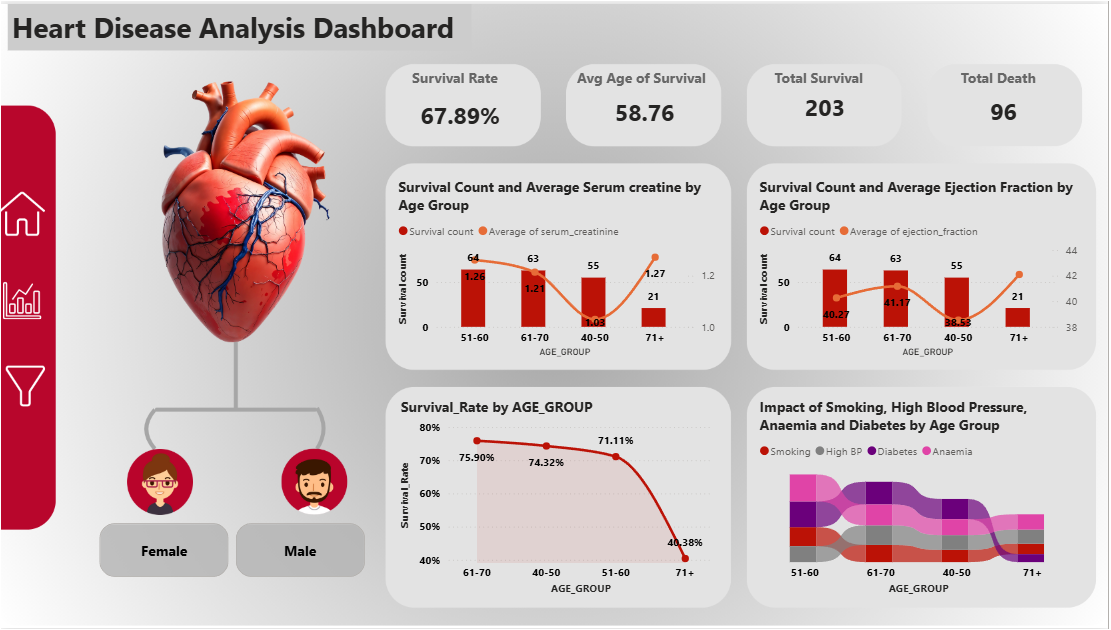

This screenshot's page, from the dashboard's own definition file:
{"tool":"powerbi","page":{"name":"Page 1","canvas":[1280,720],"ordinal":0},"visuals":[{"type":"textbox","box":[10,0,534.9,53.5],"z":0},{"type":"cardVisual","fields":{"Data":["heart_Disease_clinical_records_.Survival_Rate"]},"box":[442.9,85.9,179.1,79.8],"z":1000},{"type":"cardVisual","fields":{"Data":["heart_Disease_clinical_records_.Average_Age_Survival"]},"box":[662.6,85.9,166.9,71.2],"z":2000},{"type":"cardVisual","fields":{"Data":["heart_Disease_clinical_records_.Total_Death"]},"box":[1088.3,88.3,143.6,66.3],"z":3000},{"type":"cardVisual","fields":{"Data":["heart_Disease_clinical_records_.Total_Surviour"]},"box":[872.4,78.5,162,78.5],"z":4000},{"type":"textbox","box":[472.4,68.7,120.2,34.4],"z":5000},{"type":"textbox","box":[662.6,68.7,171.8,33.1],"z":6000},{"type":"textbox","box":[890.8,68.7,123.9,34.4],"z":7000},{"type":"textbox","box":[1105.5,68.7,109.2,35.6],"z":8000},{"type":"lineClusteredColumnComboChart","title":"Survival Count and Average Serum creatine by Age Group","fields":{"Y":["CountNonNull(heart_Disease_clinical_records_.DEATH_EVENT)"],"Y2":["Avg(heart_Disease_clinical_records_.serum_creatinine)"],"Category":["heart_Disease_clinical_records_.AGE_GROUP"]},"box":[455.9,199.1,378,213.5],"z":9000},{"type":"lineClusteredColumnComboChart","title":"Survival Count and Average Ejection Fraction by Age Group","fields":{"Y":["CountNonNull(heart_Disease_clinical_records_.DEATH_EVENT)"],"Y2":["Avg(heart_Disease_clinical_records_.ejection_fraction)"],"Category":["heart_Disease_clinical_records_.AGE_GROUP"]},"box":[872.4,198.8,377.9,213.5],"z":10000},{"type":"areaChart","fields":{"Category":["heart_Disease_clinical_records_.AGE_GROUP"],"Y":["heart_Disease_clinical_records_.Survival_Rate"]},"box":[458.9,452.8,370.6,234.4],"z":11000},{"type":"ribbonChart","title":"Impact of Smoking, High Blood Pressure, Anaemia and Diabetes by Age Group","fields":{"Category":["heart_Disease_clinical_records_.AGE_GROUP"],"Y":["Sum(heart_Disease_clinical_records_.smoking)","Sum(heart_Disease_clinical_records_.high_blood_pressure)","Sum(heart_Disease_clinical_records_.diabetes)","Sum(heart_Disease_clinical_records_.anaemia)"]},"box":[872.4,452.8,377.9,234.4],"z":12000},{"type":"advancedSlicerVisual","fields":{"Values":["heart_Disease_clinical_records_.Gender"]},"box":[110.4,593.9,317.8,72.4],"z":13000}]}

Visuals, with their boxes in screenshot pixels (x1, y1, x2, y2), scaled from the page's 1280x720 canvas onto the 1111x630 screenshot:
textbox: [9,0,473,47]
cardVisual - heart_Disease_clinical_records_.Survival_Rate: [384,75,540,145]
cardVisual - heart_Disease_clinical_records_.Average_Age_Survival: [575,75,720,137]
cardVisual - heart_Disease_clinical_records_.Total_Death: [945,77,1069,135]
cardVisual - heart_Disease_clinical_records_.Total_Surviour: [757,69,898,137]
textbox: [410,60,514,90]
textbox: [575,60,724,89]
textbox: [773,60,881,90]
textbox: [960,60,1054,91]
"Survival Count and Average Serum creatine by Age Group" lineClusteredColumnComboChart: [396,174,724,361]
"Survival Count and Average Ejection Fraction by Age Group" lineClusteredColumnComboChart: [757,174,1085,361]
areaChart - heart_Disease_clinical_records_.AGE_GROUP x heart_Disease_clinical_records_.Survival_Rate: [398,396,720,601]
"Impact of Smoking, High Blood Pressure, Anaemia and Diabetes by Age Group" ribbonChart: [757,396,1085,601]
advancedSlicerVisual - heart_Disease_clinical_records_.Gender: [96,520,372,583]
